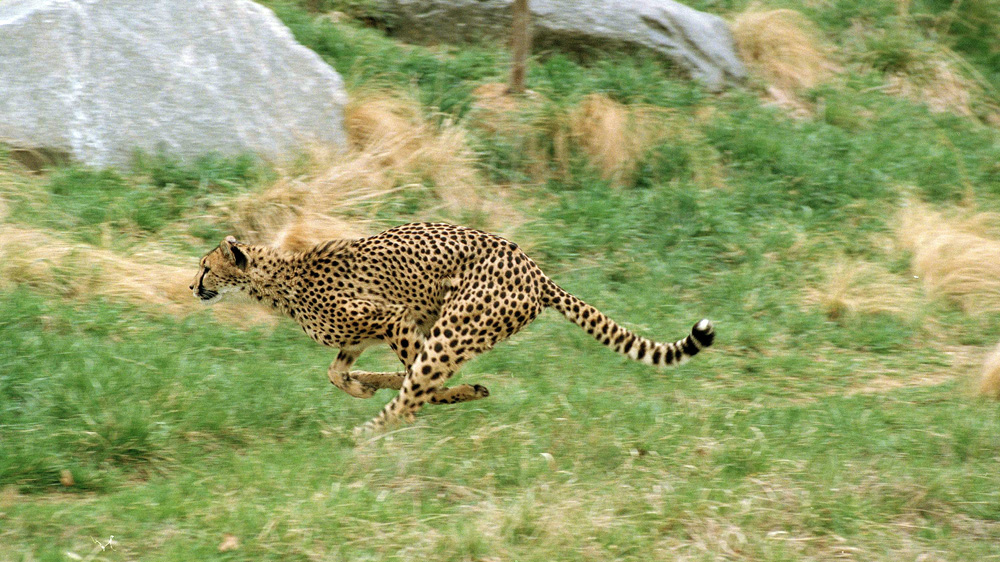cheetah: (167, 231, 266, 314)
